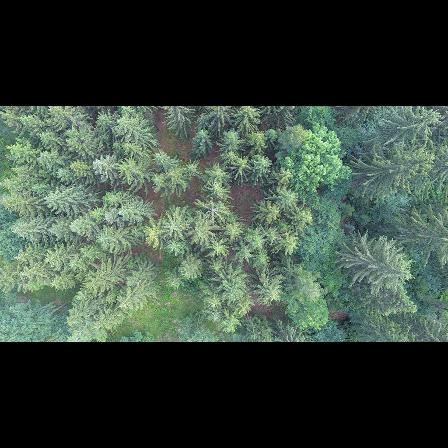Sick: (196, 197, 231, 221)
